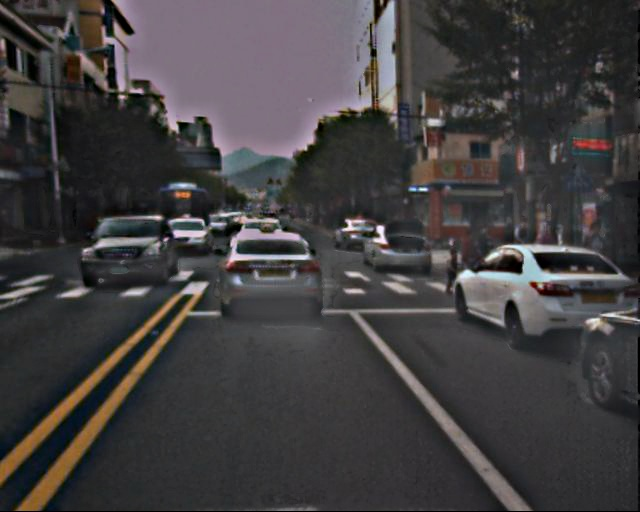person: (581, 223, 605, 282), (443, 243, 467, 301), (514, 218, 538, 275), (458, 230, 480, 284)
